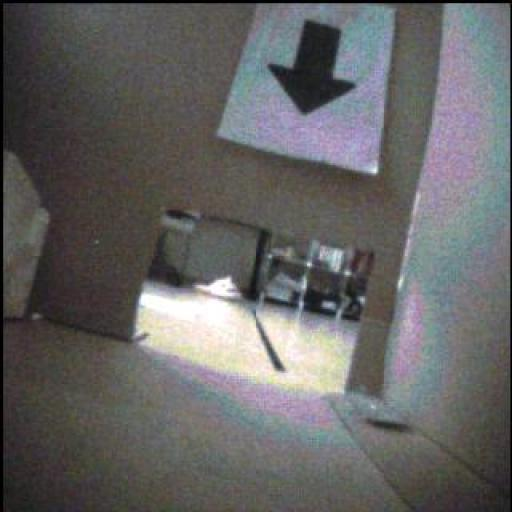arrow: (270, 22, 356, 116)
